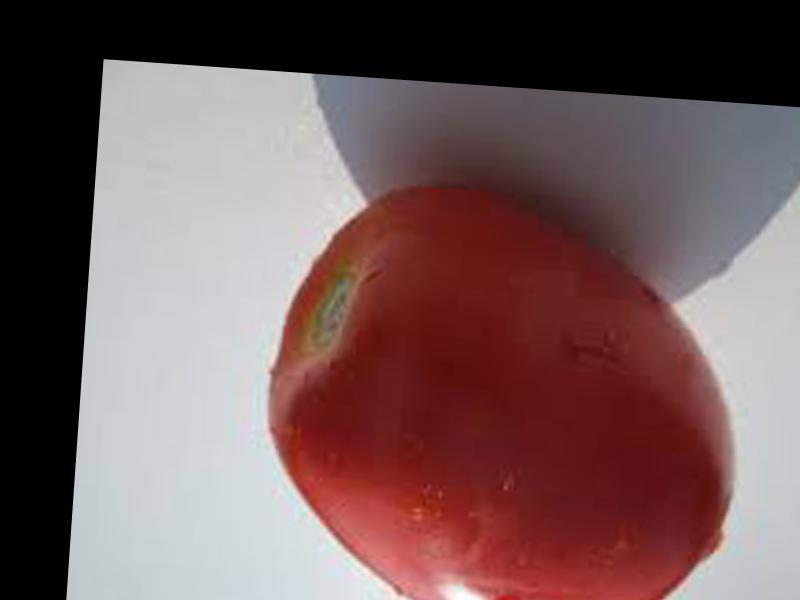Tomato: (254, 176, 750, 600)
